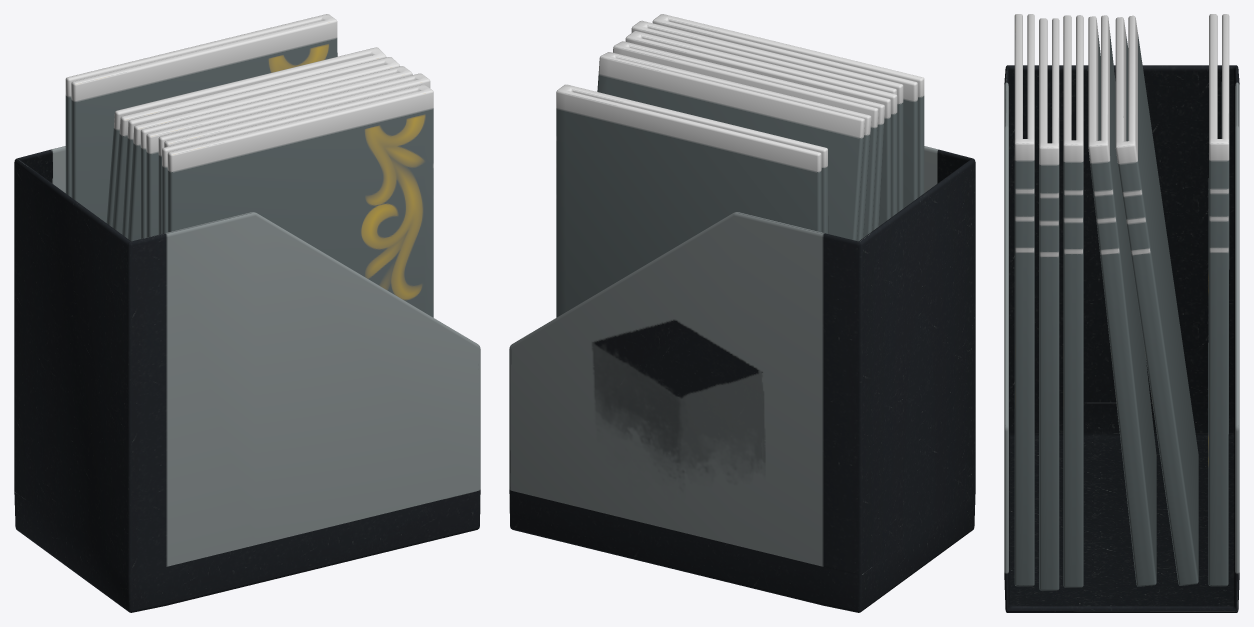
Rendered from Shelf2.fbx.
3 renders of one model, left to right at view 1: azimuth 30°, elevation 25°; view 2: azimuth 150°, elevation 25°; view 3: azimuth 270°, elevation 25°, orthographic.
Visible parts, largest first — view 1: Shelf2; view 2: Shelf2; view 3: Shelf2.
Part boxes in pixels (box(x1,y1,x2,y2)): Shelf2: box(14, 14, 480, 612); Shelf2: box(509, 14, 975, 612); Shelf2: box(1004, 14, 1239, 612).
Size of the model in its own units: 166 by 201 by 95.1.
